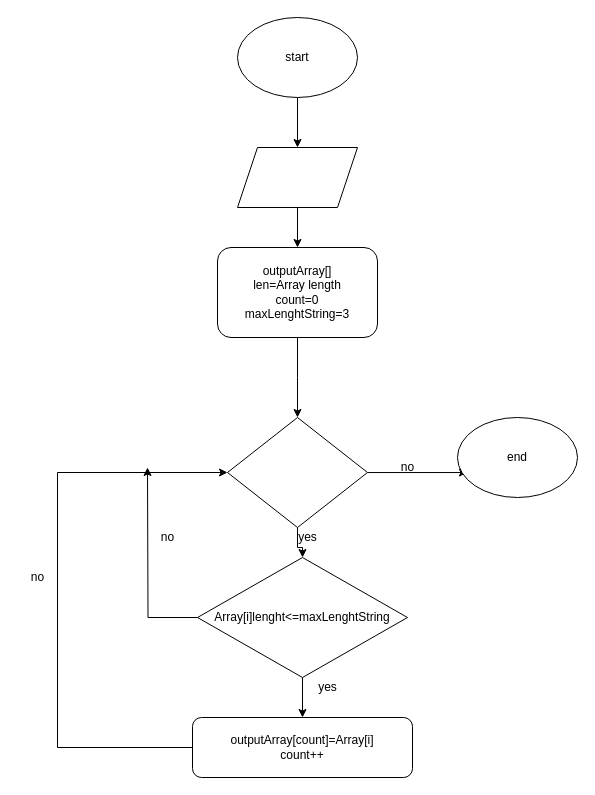
This 595x795 diagram has some shape labels left out. The centre of each missing label's shape, as x and y in pixels:
"array[]" goes at point (297, 177).
"i=0 i<len i=i+1" goes at point (297, 472).
